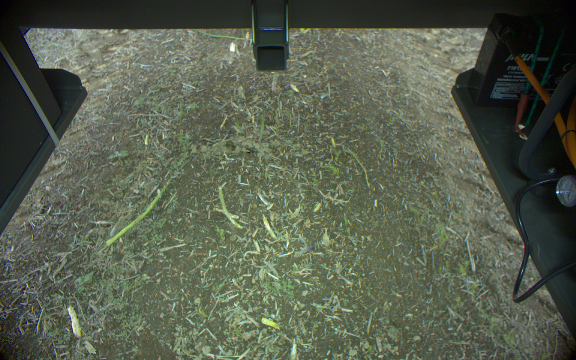aspa: (106, 176, 176, 246), (217, 185, 245, 232), (64, 305, 82, 338), (255, 108, 268, 146), (260, 213, 276, 240)
